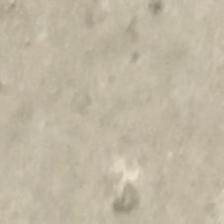Non_Crack: (11, 70, 224, 164)
